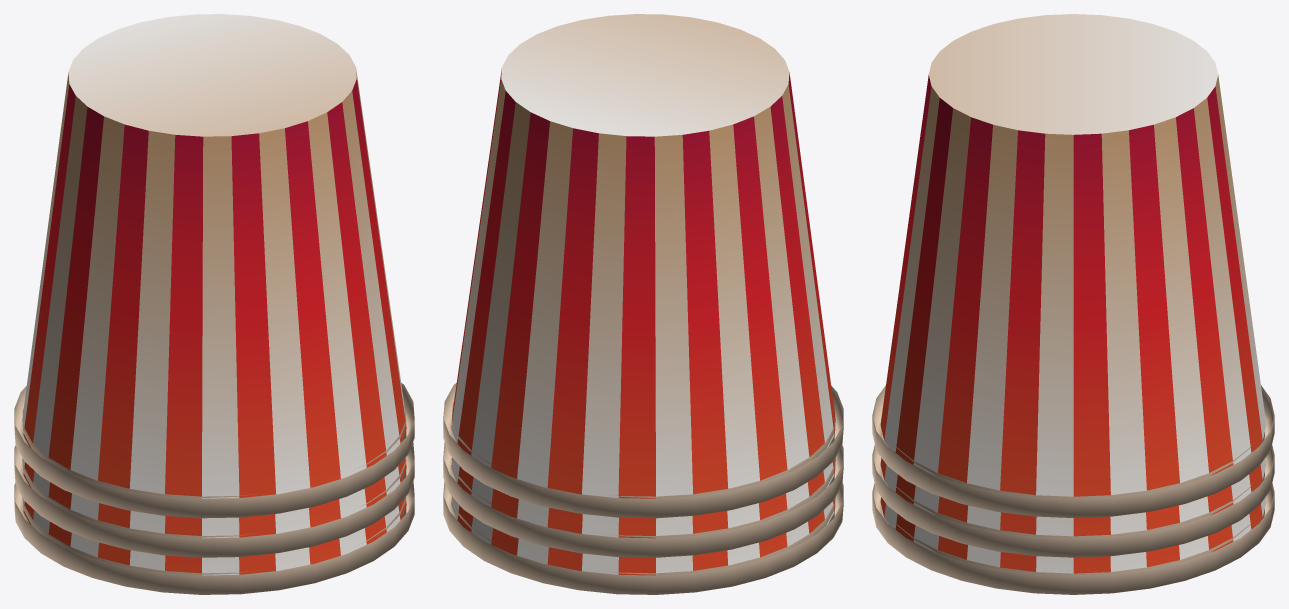
File: bucket pile.fbx
3 views of the same model, side by side, from view 1: azimuth 30°, elevation 25°; view 2: azimuth 150°, elevation 25°; view 3: azimuth 270°, elevation 25° (orthographic).
Visible parts, largest first — view 1: bucket_pile; view 2: bucket_pile; view 3: bucket_pile.
Part boxes in pixels (<box>): bucket_pile: <box>14,14,414,594</box>; bucket_pile: <box>443,14,843,594</box>; bucket_pile: <box>872,14,1274,594</box>.
Size of the model in its own units: 87.44 by 106 by 87.41.
Materials: 1 (1 with a texture image).
